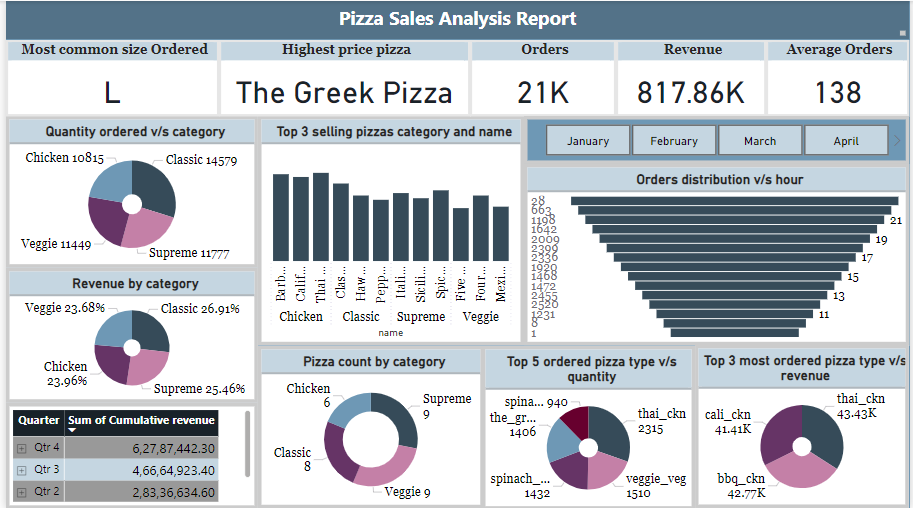

What the dashboard file says about the page in this screenshot:
{"tool":"powerbi","page":{"name":"Page 1","canvas":[1280,720],"ordinal":0},"visuals":[{"type":"clusteredColumnChart","title":"Top 3 selling pizzas category and name","fields":{"Y":["Sum(Query3.revenue)"],"Category":["Query3.category","Query3.name"]},"box":[357.2,163,377,324.6],"z":0},{"type":"pivotTable","title":"Cumulative revenue","fields":{"Rows":["Query2.order_date.Variation.Date Hierarchy.Quarter","Query2.order_date.Variation.Date Hierarchy.Month"],"Values":["Sum(Query2.Cumulative revenue)"]},"box":[0,569.8,357.2,150.2],"z":1000},{"type":"donutChart","title":"Quantity ordered v/s category","fields":{"Category":["Query4.category"],"Y":["Sum(Query4.count(quantity ))"]},"box":[0,163,357.2,215.4],"z":2000},{"type":"funnel","title":"Orders distribution v/s hour","fields":{"Category":["Query5.count(order_id)"],"Y":["Sum(Query5.hour(order_time))"]},"box":[734.2,231,545.7,256.5],"z":3000},{"type":"donutChart","title":"Pizza count by category","fields":{"Category":["Query6.category"],"Y":["Sum(Query6.count(name))"]},"box":[356.7,488.3,320,230],"z":4000},{"type":"textbox","title":"Pizza Sales Analysis Report","box":[0,0,1279.8,53.9],"z":5000},{"type":"donutChart","title":"Revenue by category","fields":{"Category":["Query1.category"],"Y":["Sum(Query1.revenue)"]},"box":[0,378.4,357.2,191.3],"z":6000},{"type":"cardVisual","title":"Most common size Ordered","fields":{"Data":["Min(Query11.size)"]},"box":[0,55.6,302.2,107.8],"z":7000},{"type":"cardVisual","title":"Highest price pizza","fields":{"Data":["Min(Query10.Highest_price_pizza)"]},"box":[301.9,55.3,355.7,107.7],"z":8000},{"type":"cardVisual","title":"Orders","fields":{"Data":["Sum(Query9.count(order_id))"]},"box":[657.6,55.3,206.9,107.7],"z":9000},{"type":"cardVisual","title":"Revenue","fields":{"Data":["Sum(Query13.total_revenue)"]},"box":[864.6,55.3,212.6,107.7],"z":10000},{"type":"cardVisual","title":"Average Orders ","fields":{"Data":["Sum(Query7.avg_pizza_per_day)"]},"box":[1077.2,55.3,202.7,107.7],"z":11000},{"type":"donutChart","title":"Top 3 most ordered pizza type v/s revenue","fields":{"Category":["Query8.pizza_type_id"],"Y":["Sum(Query8.revenue)"]},"box":[976.5,487.6,303.3,231],"z":12000},{"type":"pieChart","title":"Top 5 ordered pizza type v/s quantity","fields":{"Category":["Query14.pizza_type_id"],"Y":["Sum(Query14.orders)"]},"box":[675,488.3,301.7,231.7],"z":13000},{"type":"slicer","fields":{"Values":["Query2.order_date.Variation.Date Hierarchy.Month"]},"box":[734.2,163,545.7,68],"z":14000}]}

Visuals, with their boxes in screenshot pixels (x1, y1, x2, y2), scaled from the page's 1280x720 canvas onto the 913x508 screenshot:
"Top 3 selling pizzas category and name" clusteredColumnChart: <region>255, 115, 524, 344</region>
"Cumulative revenue" pivotTable: <region>0, 402, 255, 507</region>
"Quantity ordered v/s category" donutChart: <region>0, 115, 255, 267</region>
"Orders distribution v/s hour" funnel: <region>524, 163, 912, 344</region>
"Pizza count by category" donutChart: <region>254, 345, 483, 507</region>
"Pizza Sales Analysis Report" textbox: <region>0, 0, 912, 38</region>
"Revenue by category" donutChart: <region>0, 267, 255, 402</region>
"Most common size Ordered" cardVisual: <region>0, 39, 216, 115</region>
"Highest price pizza" cardVisual: <region>215, 39, 469, 115</region>
"Orders" cardVisual: <region>469, 39, 617, 115</region>
"Revenue" cardVisual: <region>617, 39, 768, 115</region>
"Average Orders " cardVisual: <region>768, 39, 912, 115</region>
"Top 3 most ordered pizza type v/s revenue" donutChart: <region>697, 344, 912, 507</region>
"Top 5 ordered pizza type v/s quantity" pieChart: <region>481, 345, 697, 507</region>
slicer - Query2.order_date.Variation.Date Hierarchy.Month: <region>524, 115, 912, 163</region>
